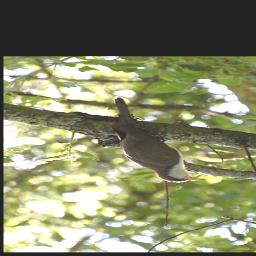Cuckoo: (108, 95, 207, 183)
